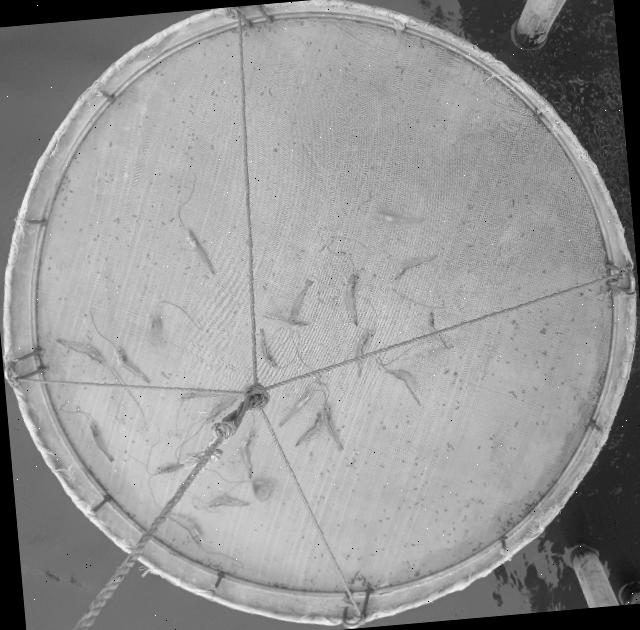shrimp: (279, 386, 316, 426), (187, 228, 215, 274), (114, 347, 149, 382), (386, 369, 420, 405), (393, 254, 437, 281), (319, 403, 343, 451), (57, 339, 105, 363), (203, 394, 240, 422), (169, 514, 202, 545), (290, 278, 313, 322), (295, 412, 323, 446), (90, 422, 114, 461), (354, 329, 372, 377), (427, 307, 447, 348), (343, 273, 358, 325), (262, 315, 312, 330), (240, 431, 254, 479), (260, 328, 277, 367), (147, 313, 164, 346), (380, 211, 425, 223), (209, 494, 249, 507), (156, 461, 185, 474), (181, 391, 205, 400)
